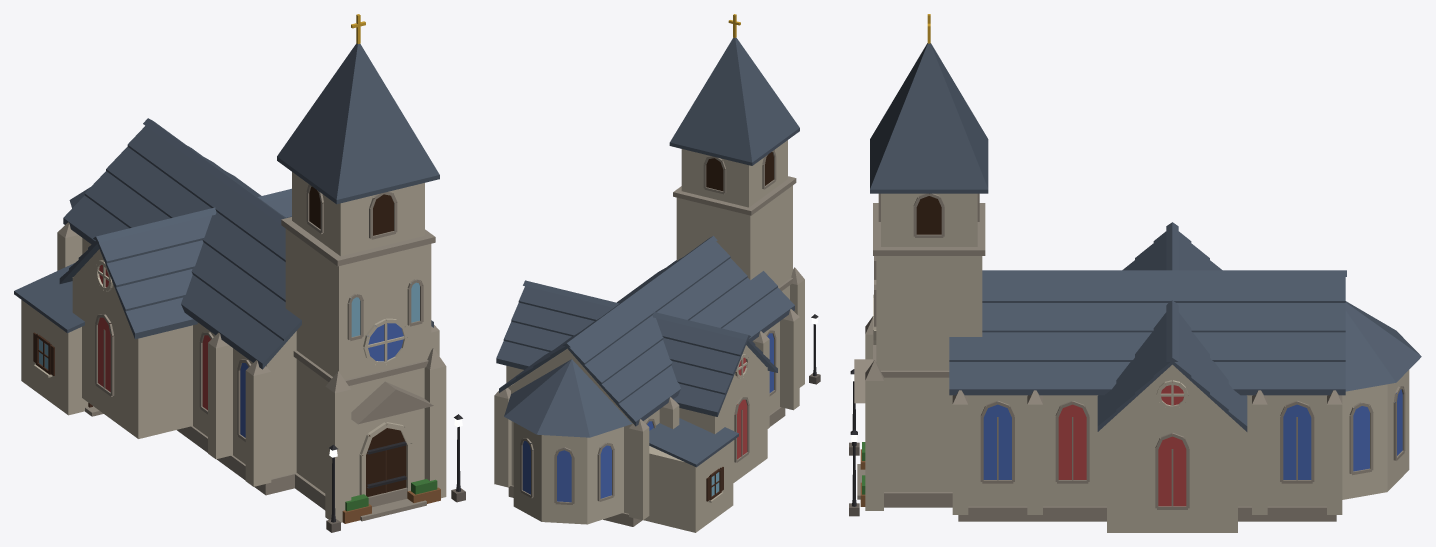
The model's file is church.fbx.
3 renders of one model, left to right at view 1: azimuth 30°, elevation 25°; view 2: azimuth 150°, elevation 25°; view 3: azimuth 270°, elevation 25°, orthographic. The views are drawn at different scales.
Visible parts, largest first — view 1: church; view 2: church; view 3: church.
Boxes of the visible parts, left/top/right/bottom form: church: left=14, top=14, right=465, bottom=532; church: left=494, top=14, right=820, bottom=532; church: left=849, top=14, right=1421, bottom=532.
Bounding box in the file's own units: 10.6 × 16.6 × 18.37.
